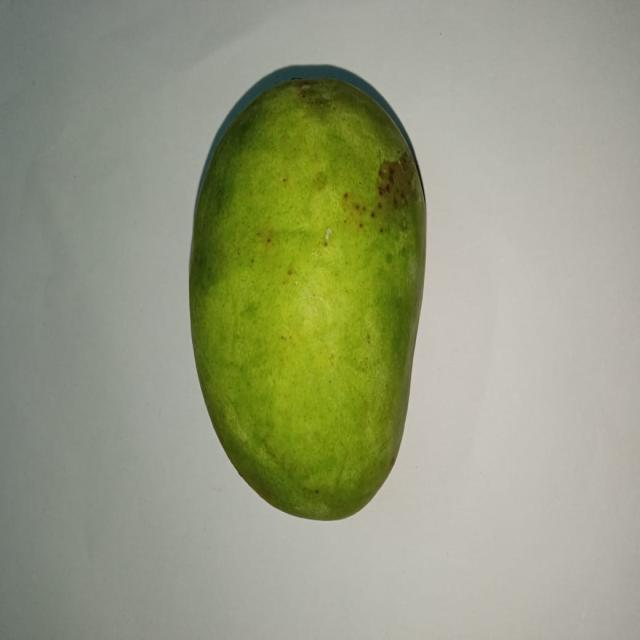fresh_mango: (188, 78, 426, 522)
